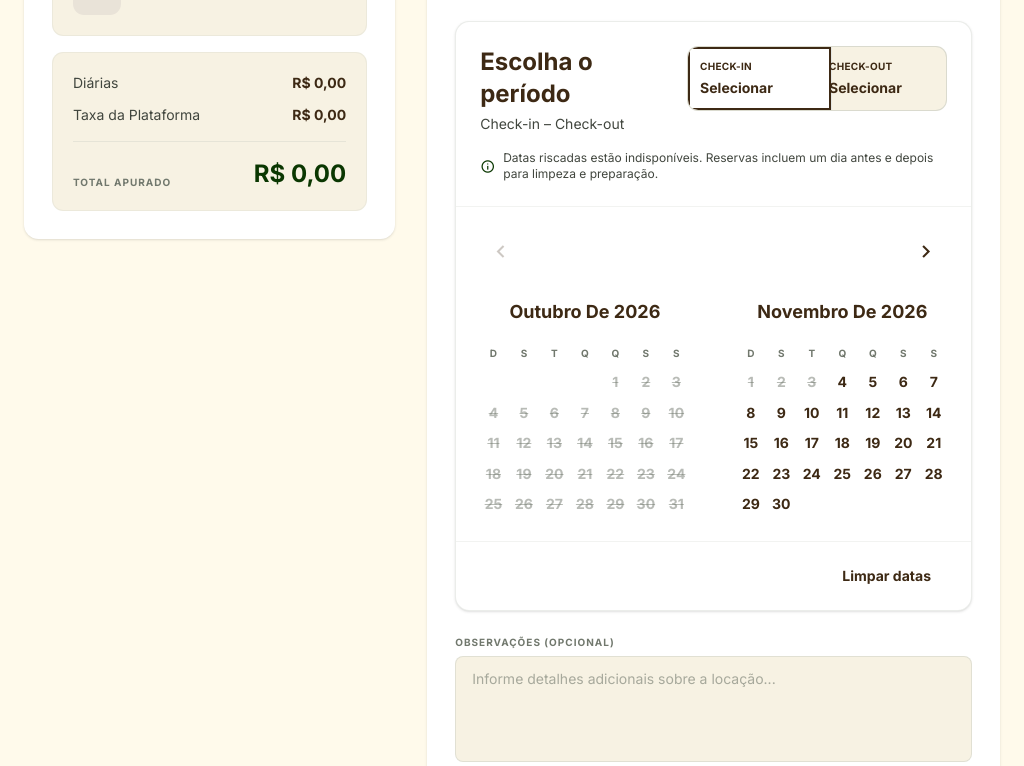
Test: server price quote › shows the server's fixed daily price instead of recomputing it from the listing
The image size is (1024, 766).
(page scrolled)
Click the 1st button titled "Selecionar data" at coordinates (842, 382), box left=829, top=369, right=856, bottom=396
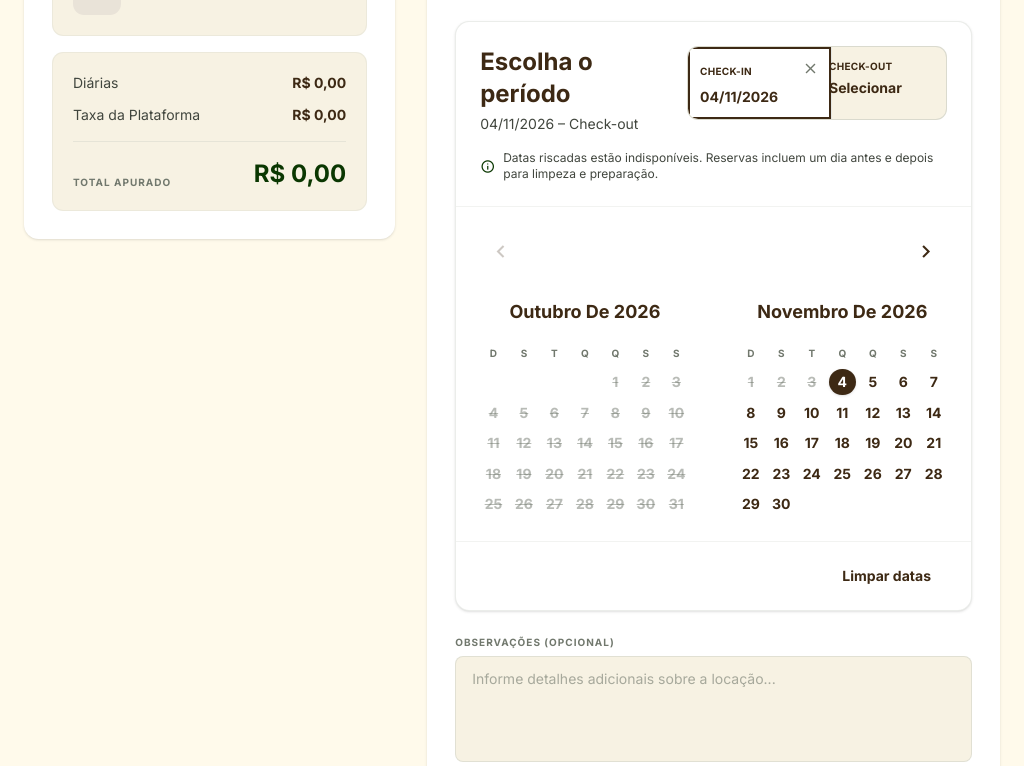
Click the 1st button titled "Selecionar data" at coordinates (842, 382), box left=829, top=369, right=856, bottom=396
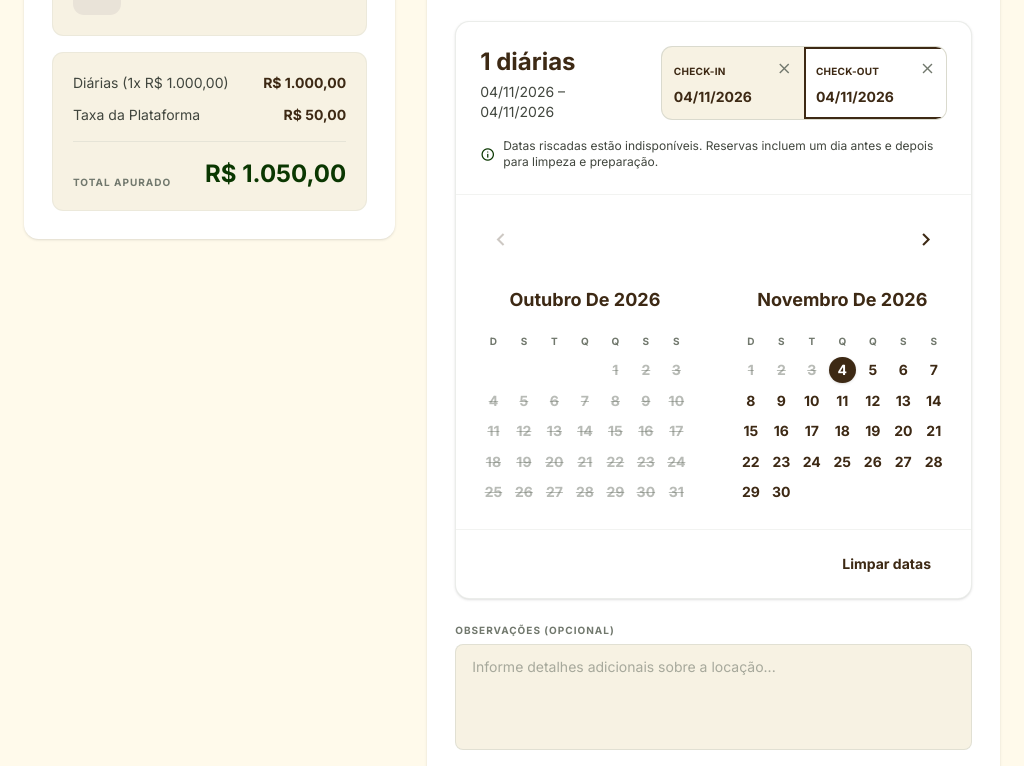
Expected: the text "R$ 1.050,00" is shown, left=205, top=158, right=346, bottom=190
